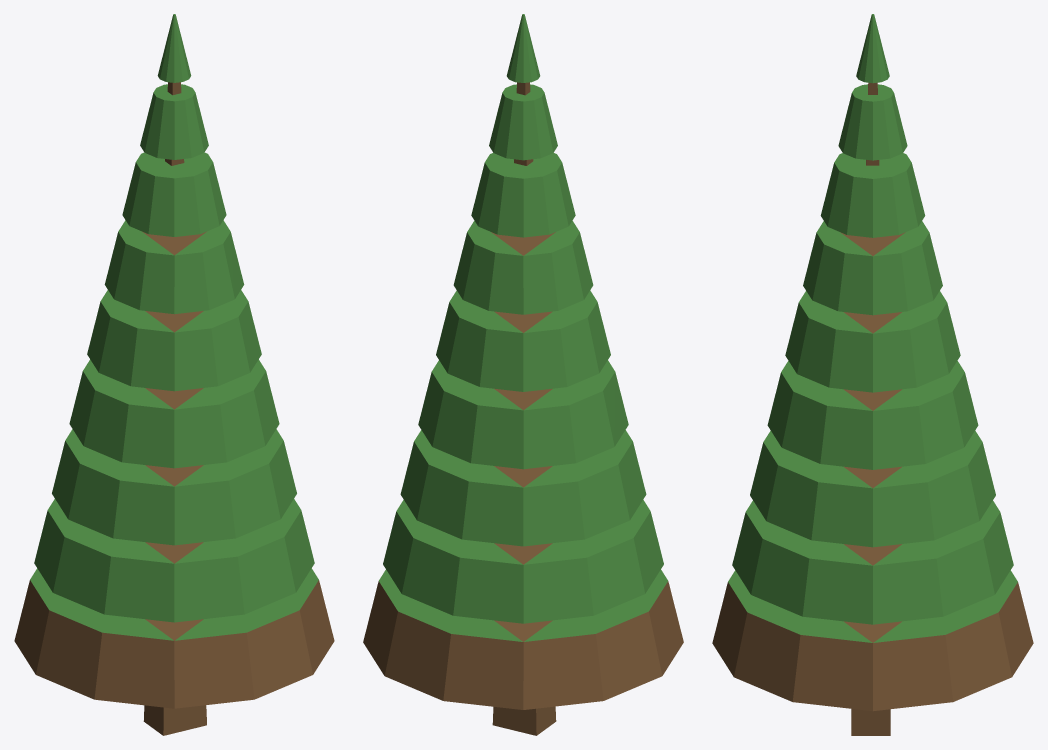
The model's file is tree3d-165.glb.
3 renders of one model, left to right at view 1: azimuth 30°, elevation 25°; view 2: azimuth 150°, elevation 25°; view 3: azimuth 270°, elevation 25°, orthographic.
Visible parts, largest first — view 1: tree3d-165; view 2: tree3d-165; view 3: tree3d-165.
Boxes of the visible parts, x1=… form: tree3d-165: x1=14, y1=14, x2=334, y2=735; tree3d-165: x1=363, y1=14, x2=683, y2=735; tree3d-165: x1=712, y1=14, x2=1033, y2=735.
Size of the model in its own units: 0.4098 by 1 by 0.4097.
